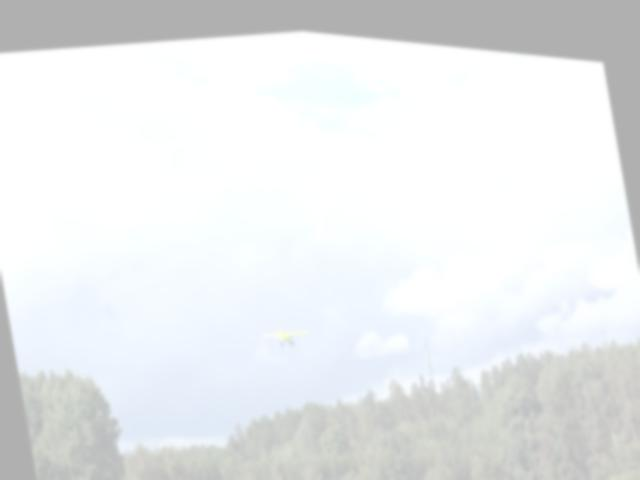plane: (260, 313, 311, 347)
